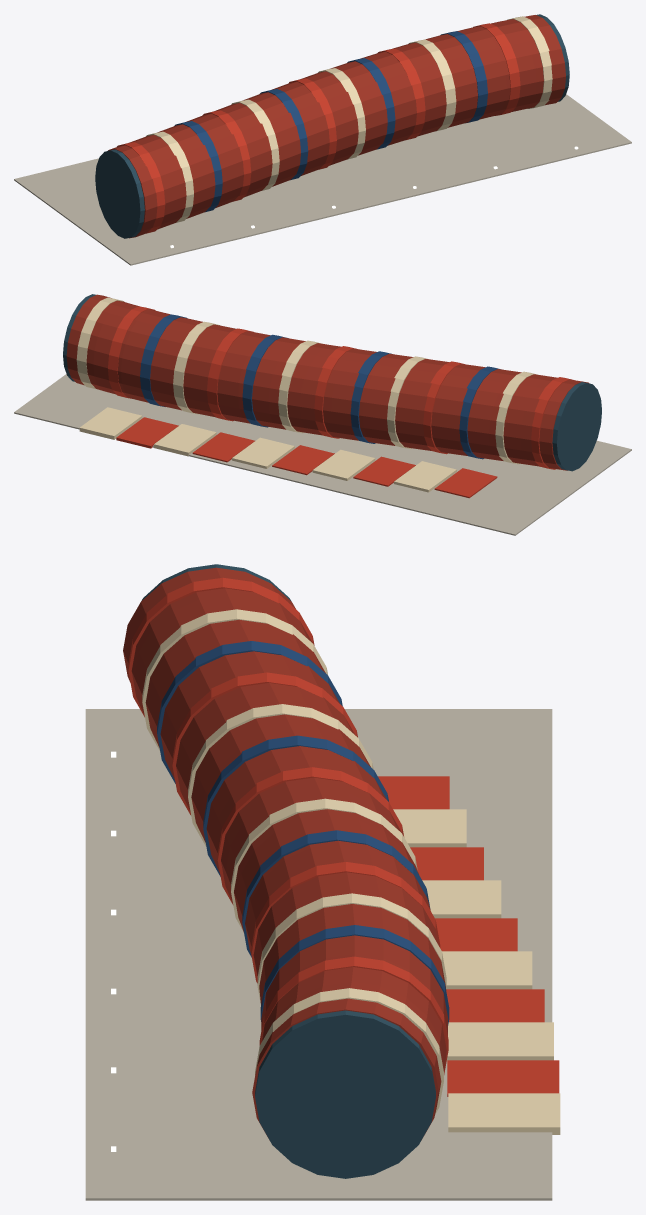
File: museo-alfombra.glb
3 renders of one model, top to bottom at view 1: azimuth 30°, elevation 25°; view 2: azimuth 150°, elevation 25°; view 3: azimuth 270°, elevation 25°, orthographic. The views are drawn at different scales.
Parts seen in each view (by area): view 1: museo-alfombra; view 2: museo-alfombra; view 3: museo-alfombra.
Boxes of the visible parts, <box> form: museo-alfombra: <box>14,14,631,265</box>; museo-alfombra: <box>14,294,631,535</box>; museo-alfombra: <box>85,564,560,1200</box>.
Bounding box in the file's own units: 124 × 19.92 × 50.85.
